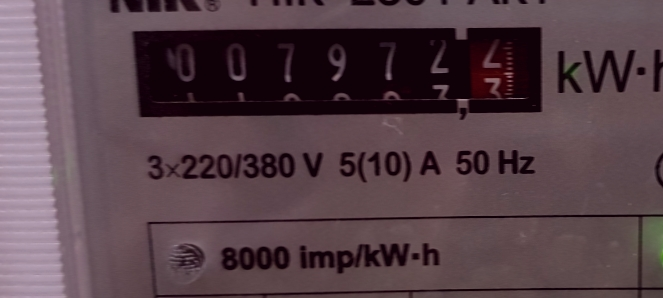0: (172, 39, 198, 81), (223, 38, 248, 80)
2: (427, 35, 450, 74), (478, 35, 501, 69)
3: (480, 73, 502, 98)
7: (374, 36, 400, 82), (273, 38, 298, 83)
9: (324, 38, 346, 81)
screen: (116, 13, 558, 129)
